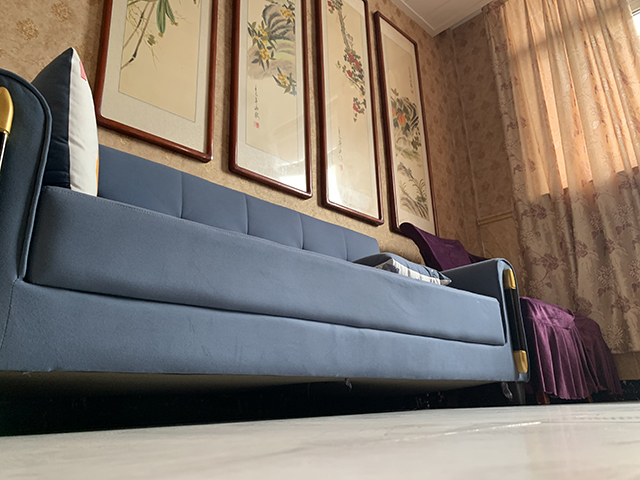curtain: (564, 1, 640, 355)
sofa: (1, 72, 526, 400)
stool: (400, 221, 632, 407)
